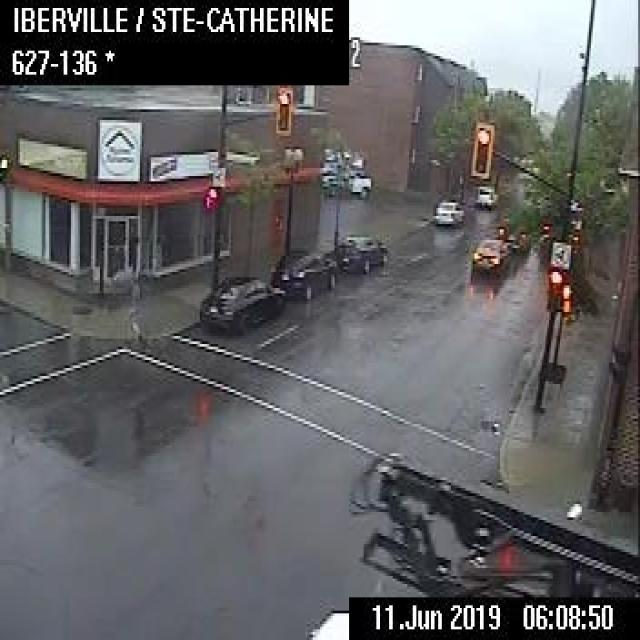vehicle: (308, 443, 638, 637), (196, 272, 286, 333), (269, 245, 336, 297), (332, 231, 387, 272), (470, 236, 511, 275), (495, 214, 530, 253), (434, 199, 463, 224), (348, 166, 370, 198), (474, 182, 498, 208)
